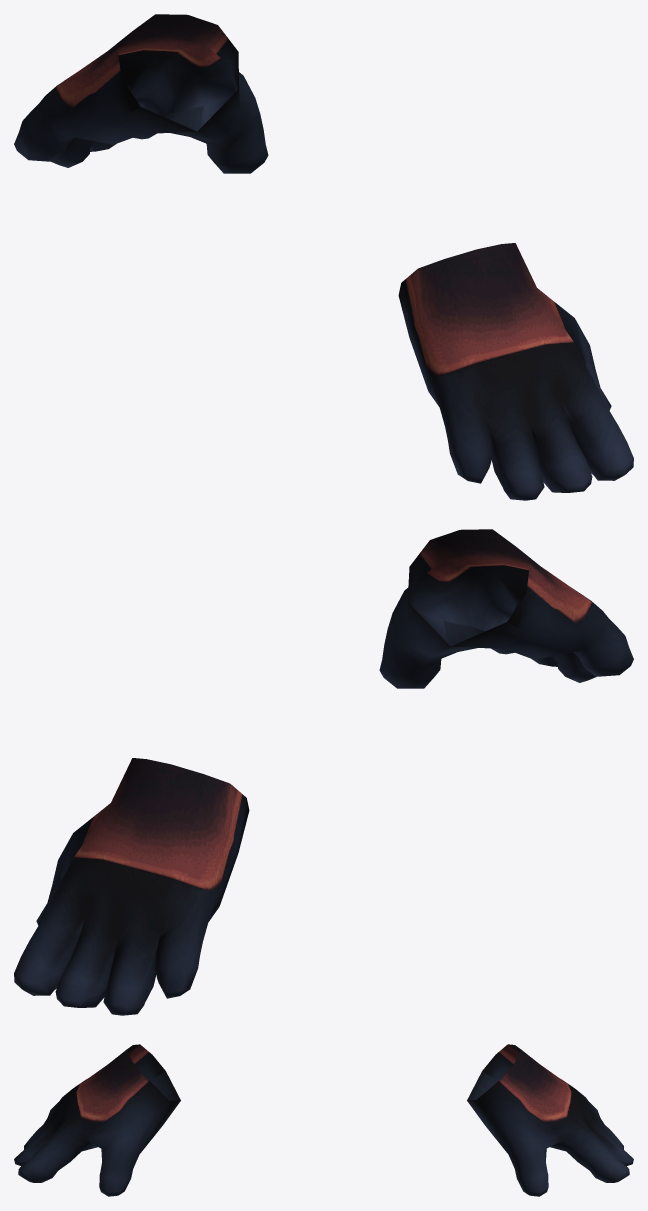
File: HP hands by airbees.glb
The picture shows the model from 3 angles, top to bottom: view 1: azimuth 30°, elevation 25°; view 2: azimuth 150°, elevation 25°; view 3: azimuth 270°, elevation 25°; orthographic projection. The views are drawn at different scales.
Visible parts, largest first — view 1: Hands Final; view 2: Hands Final; view 3: Hands Final.
Part boxes in pixels (box(x1,y1,x2,y2)): Hands Final: box(14, 14, 633, 500); Hands Final: box(14, 529, 633, 1015); Hands Final: box(14, 1044, 633, 1196).
Size of the model in its own units: 0.3053 by 0.2873 by 1.36.
1 material, 1 textured.
